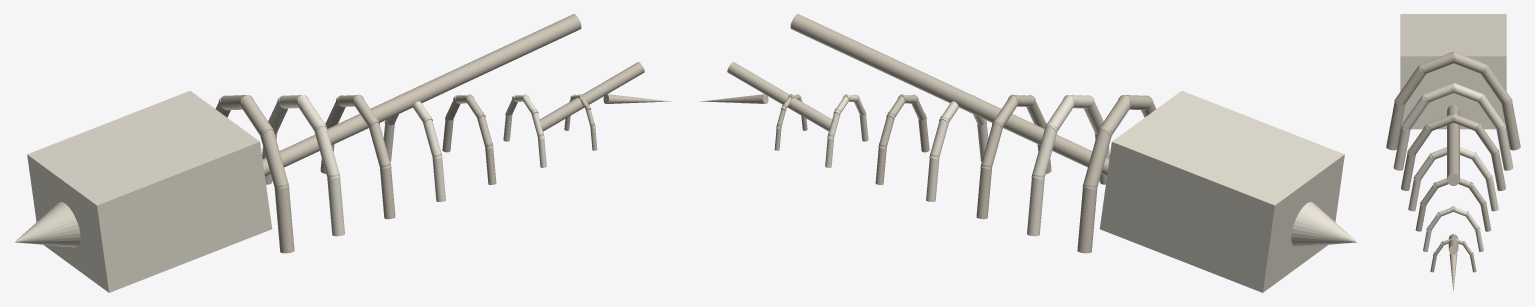
File: leviathan.glb
The picture shows the model from 3 angles, left to right: view 1: azimuth 30°, elevation 25°; view 2: azimuth 150°, elevation 25°; view 3: azimuth 270°, elevation 25°; orthographic projection. The views are drawn at different scales.
Visible parts, largest first — view 1: Cube, Cylinder.042, Cone, Cylinder.043, Cylinder, Cylinder.001, Cylinder.006, Cylinder.007, Cylinder.012, Cylinder.002, Cylinder.013, Cylinder.008 (+1 smaller); view 2: Cube, Cylinder.042, Cone, Cylinder.043, Cylinder.003, Cylinder.004, Cylinder.009, Cylinder.010, Cylinder.015, Cylinder.005, Cylinder.016, Cylinder.011 (+1 smaller); view 3: Cube, Cylinder.042, Cylinder, Cylinder.003, Cylinder.001, Cylinder.004, Cylinder.006, Cylinder.009, Cylinder.002, Cylinder.005, Cylinder.007, Cylinder.010 (+24 smaller).
Part boxes in pixels (x1=…): Cube: x1=27, y1=90, x2=272, y2=292; Cylinder.042: x1=262, y1=14, x2=581, y2=176; Cone: x1=15, y1=202, x2=80, y2=247; Cylinder.043: x1=539, y1=62, x2=644, y2=131; Cylinder: x1=274, y1=183, x2=294, y2=253; Cylinder.001: x1=260, y1=128, x2=289, y2=190; Cylinder.006: x1=327, y1=173, x2=344, y2=236; Cylinder.007: x1=314, y1=124, x2=340, y2=180; Cylinder.012: x1=380, y1=163, x2=395, y2=219; Cylinder.002: x1=239, y1=95, x2=274, y2=136; Cylinder.013: x1=368, y1=120, x2=391, y2=169; Cylinder.008: x1=295, y1=95, x2=327, y2=131; Cube: x1=1099, y1=90, x2=1344, y2=292; Cylinder.042: x1=790, y1=14, x2=1109, y2=176; Cone: x1=1291, y1=202, x2=1356, y2=247; Cylinder.043: x1=727, y1=62, x2=832, y2=131; Cylinder.003: x1=1077, y1=183, x2=1097, y2=253; Cylinder.004: x1=1082, y1=128, x2=1111, y2=190; Cylinder.009: x1=1027, y1=173, x2=1044, y2=236; Cylinder.010: x1=1031, y1=124, x2=1057, y2=180; Cylinder.015: x1=976, y1=163, x2=991, y2=219; Cylinder.005: x1=1097, y1=95, x2=1132, y2=136; Cylinder.016: x1=980, y1=120, x2=1003, y2=169; Cylinder.011: x1=1044, y1=95, x2=1076, y2=131; Cube: x1=1400, y1=14, x2=1506, y2=129; Cylinder.042: x1=1447, y1=105, x2=1459, y2=185; Cylinder: x1=1386, y1=98, x2=1405, y2=150; Cylinder.003: x1=1501, y1=98, x2=1520, y2=150; Cylinder.001: x1=1394, y1=64, x2=1425, y2=105; Cylinder.004: x1=1481, y1=64, x2=1512, y2=105; Cylinder.006: x1=1393, y1=124, x2=1410, y2=170; Cylinder.009: x1=1496, y1=124, x2=1513, y2=170; Cylinder.002: x1=1418, y1=51, x2=1455, y2=73; Cylinder.005: x1=1451, y1=52, x2=1488, y2=73; Cylinder.007: x1=1401, y1=93, x2=1428, y2=130; Cylinder.010: x1=1478, y1=93, x2=1505, y2=130.
Bounding box in the file's own units: 13.57 × 2.57 × 3.17.
